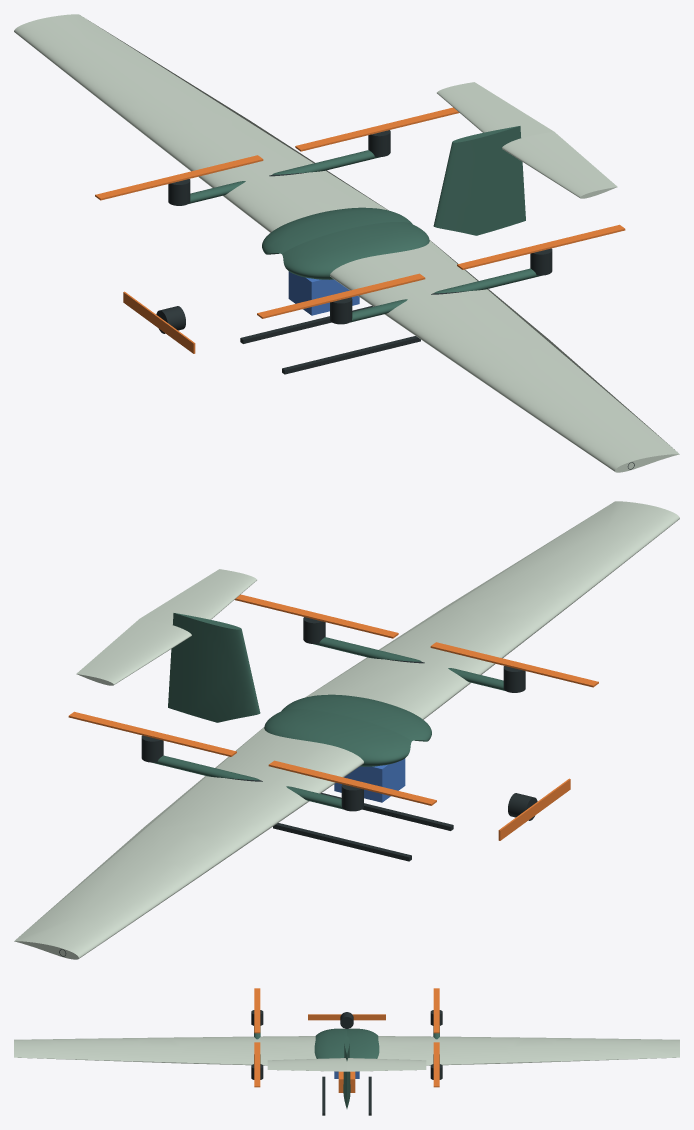
Rendered from surface_tools-08-internal.glb.
The picture shows the model from 3 angles, top to bottom: view 1: azimuth 30°, elevation 25°; view 2: azimuth 150°, elevation 25°; view 3: azimuth 270°, elevation 25°; orthographic projection. The views are drawn at different scales.
Parts seen in each view (by area): view 1: wing-1, wing1, fin, root_fairing-1, tail-1, root_fairing1, tail1, payload, boom_fairing-1, boom_fairing1, prop_1_200.0, prop_-1_200.0 (+5 smaller); view 2: wing1, wing-1, fin, root_fairing1, tail1, root_fairing-1, tail-1, payload, boom_fairing1, boom_fairing-1, prop_-1_200.0, prop_1_200.0 (+5 smaller); view 3: wing-1, wing1, tail-1, tail1, root_fairing1, root_fairing-1, cruise_prop, fin, prop_-1_200.0, prop_-1_700.0, prop_1_200.0, prop_1_700.0 (+1 smaller).
Boxes of the visible parts, x1,y1,x2,y2 form: wing-1: (330, 240, 679, 472); wing1: (14, 14, 388, 232); fin: (433, 126, 525, 235); root_fairing-1: (282, 222, 429, 279); tail-1: (502, 131, 617, 198); root_fairing1: (262, 207, 412, 254); tail1: (437, 82, 553, 137); payload: (288, 271, 359, 315); boom_fairing-1: (350, 268, 541, 322); boom_fairing1: (189, 150, 380, 203); prop_1_200.0: (95, 155, 263, 200); prop_-1_200.0: (257, 273, 425, 318); wing1: (14, 727, 363, 959); wing-1: (305, 501, 679, 719); fin: (168, 613, 260, 722); root_fairing1: (264, 709, 411, 766); tail1: (76, 618, 191, 685); root_fairing-1: (281, 694, 431, 741); tail-1: (140, 569, 256, 624); payload: (334, 758, 405, 802); boom_fairing1: (152, 755, 343, 809); boom_fairing-1: (313, 637, 504, 690); prop_-1_200.0: (430, 642, 598, 687); prop_1_200.0: (268, 760, 436, 805); wing-1: (14, 1036, 316, 1065); wing1: (377, 1036, 679, 1065); tail-1: (267, 1058, 346, 1071); tail1: (347, 1058, 426, 1071); root_fairing1: (347, 1028, 379, 1058); root_fairing-1: (314, 1028, 346, 1058); cruise_prop: (308, 1014, 385, 1020); fin: (343, 1036, 350, 1108); prop_-1_200.0: (254, 988, 260, 1033); prop_-1_700.0: (254, 1042, 260, 1087); prop_1_200.0: (433, 988, 439, 1033); prop_1_700.0: (433, 1042, 439, 1087).
Bounding box in the file's own units: 989 × 405 × 2600.
